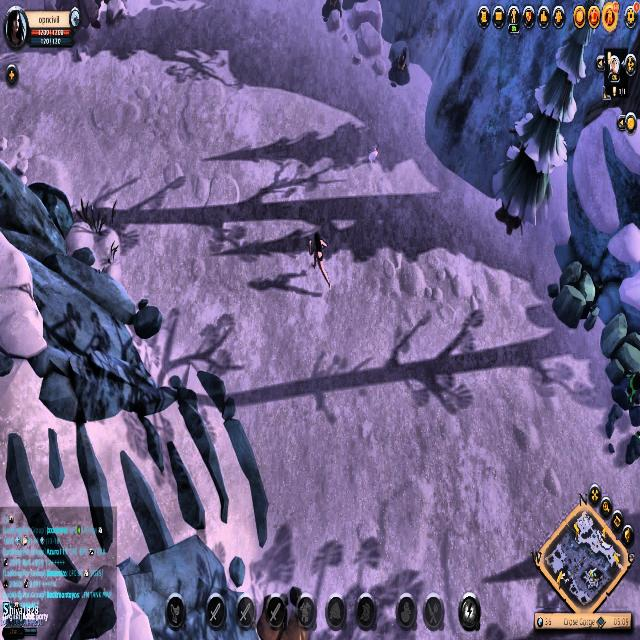copper_ore: (386, 40, 415, 99)
sandstone: (550, 254, 605, 339)
